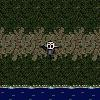Interaction: (0, 77, 100, 93)
Jason: (40, 39, 61, 60)
Slow: (0, 89, 100, 100)
